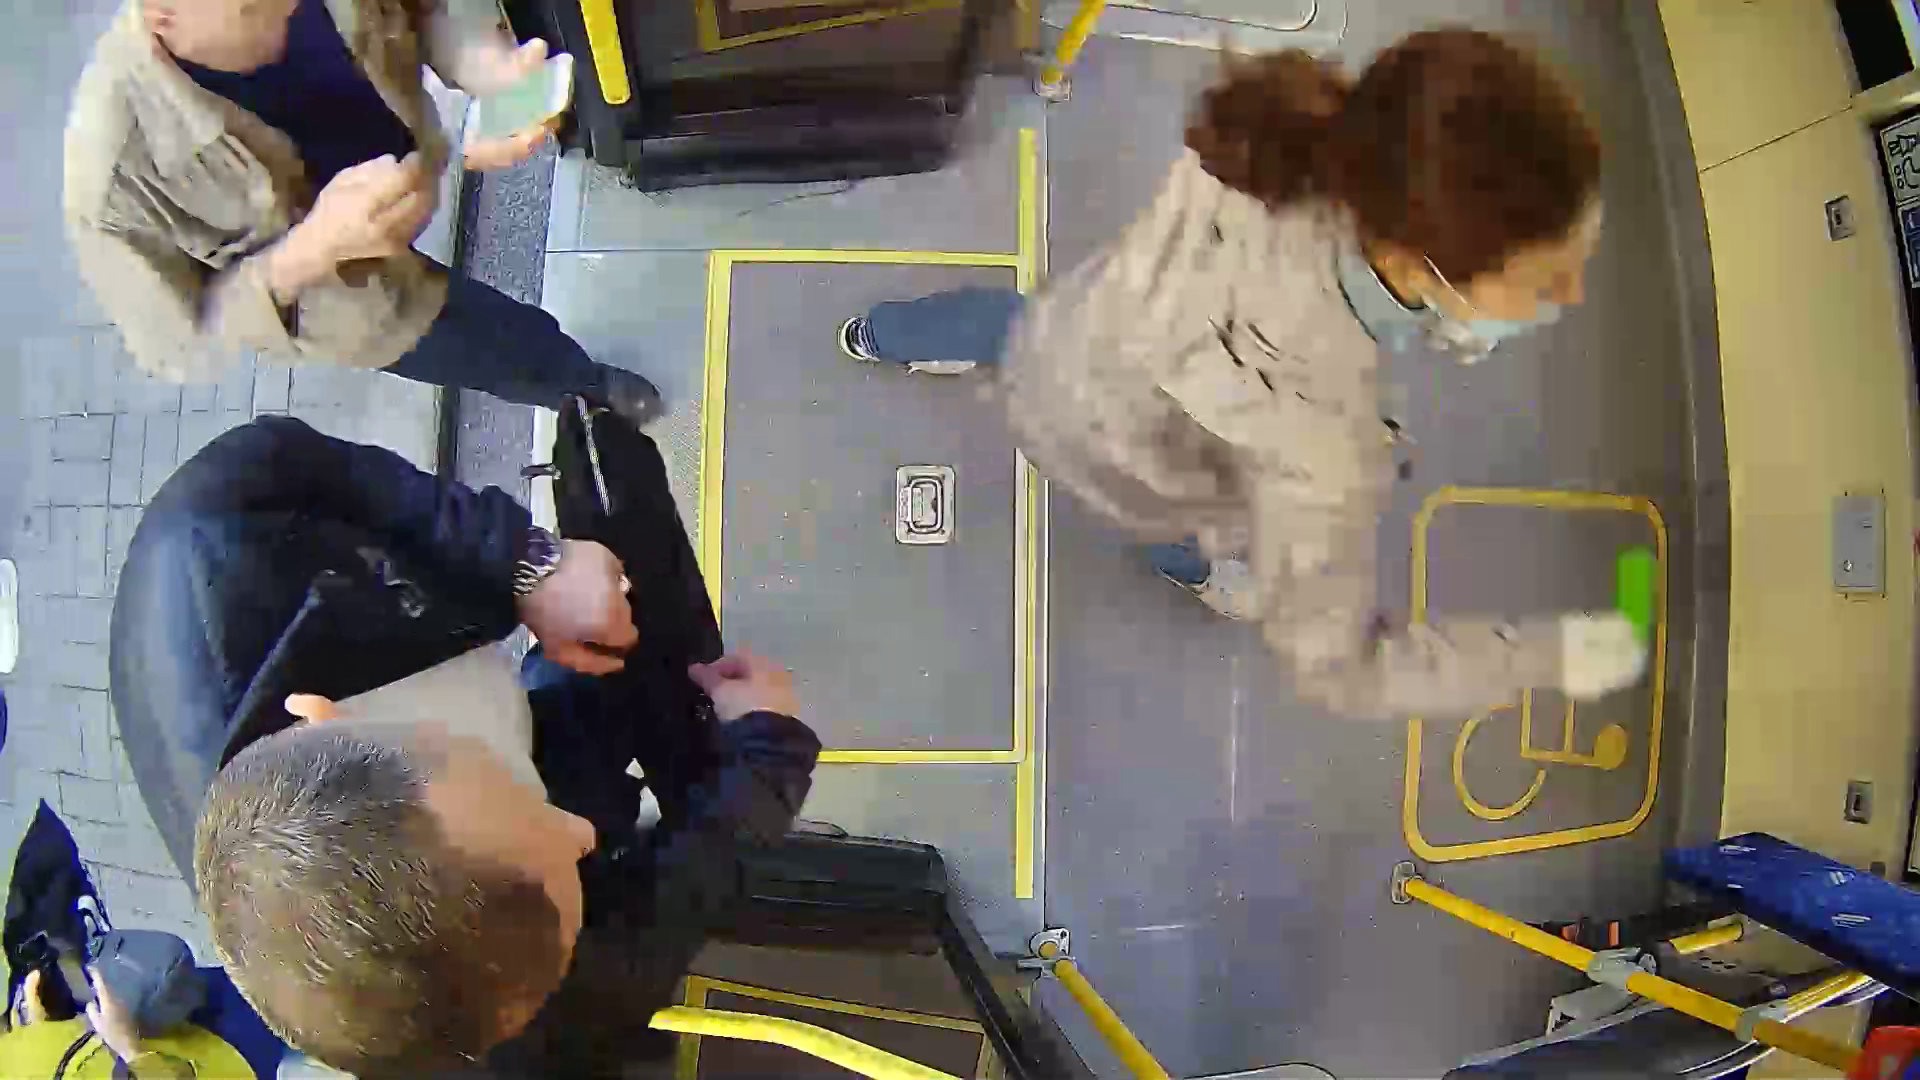person: (887, 53, 1718, 741), (19, 409, 860, 1020), (19, 13, 1002, 469)
